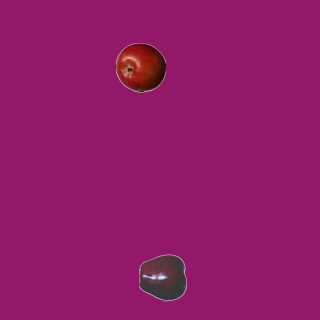Apple Braeburn: (115, 42, 165, 92)
Apple Red Delicious: (138, 252, 188, 302)
